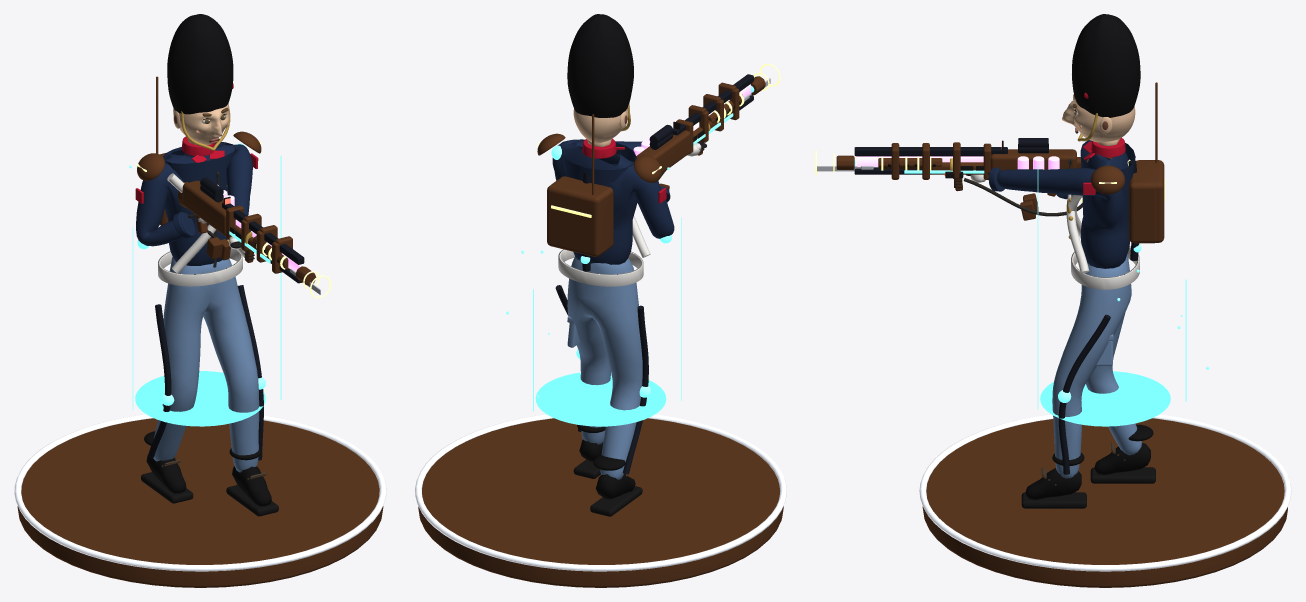
File: skinne_kbh.glb
3 renders of one model, left to right at view 1: azimuth 30°, elevation 25°; view 2: azimuth 150°, elevation 25°; view 3: azimuth 270°, elevation 25°, orthographic.
Parts seen in each view (by area): view 1: fod_net, menneske_net, hoved_net, op4_net, op1.001_net, vaaben_net, op4.001_net, op1_net, op3_net, ned1_net, op4.002_net, op3.001_net; view 2: fod_net, menneske_net, hoved_net, op4.001_net, op4_net, op1.001_net, vaaben_net, op3_net, op1_net, ned1_net, op4.002_net; view 3: fod_net, menneske_net, hoved_net, op4_net, vaaben_net, op4.001_net, op1.001_net, ned1_net, ned4_net, op1_net, op3_net, op3.001_net.
Part boxes in pixels (x1,y1,x2,y2): fod_net: (14, 414, 386, 587); menneske_net: (135, 136, 278, 516); hoved_net: (167, 14, 233, 150); op4_net: (129, 155, 281, 426); op1.001_net: (158, 173, 245, 286); vaaben_net: (178, 180, 302, 283); op4.001_net: (137, 143, 265, 460); op1_net: (200, 177, 304, 273); op3_net: (136, 76, 261, 180); ned1_net: (200, 185, 304, 262); op4.002_net: (206, 231, 331, 297); op3.001_net: (252, 236, 316, 285); fod_net: (415, 414, 786, 587); menneske_net: (552, 138, 706, 516); hoved_net: (567, 14, 633, 143); op4.001_net: (547, 145, 671, 474); op4_net: (506, 167, 681, 426); op1.001_net: (558, 216, 650, 286); vaaben_net: (633, 84, 753, 173); op3_net: (537, 114, 661, 194); op1_net: (649, 79, 753, 176); ned1_net: (649, 74, 753, 149); op4.002_net: (661, 63, 780, 190); fod_net: (919, 414, 1291, 587); menneske_net: (966, 137, 1155, 508); hoved_net: (1062, 14, 1140, 142); op4_net: (1037, 165, 1209, 426); vaaben_net: (854, 143, 1113, 196); op4.001_net: (1058, 160, 1165, 474); op1.001_net: (1056, 193, 1139, 289); ned1_net: (854, 142, 1048, 179); ned4_net: (1129, 160, 1156, 243); op1_net: (854, 138, 1082, 216); op3_net: (1091, 82, 1157, 194); op3.001_net: (836, 155, 942, 169).
Bounding box in the file's own units: 1.94 × 2.85 × 2.48.
